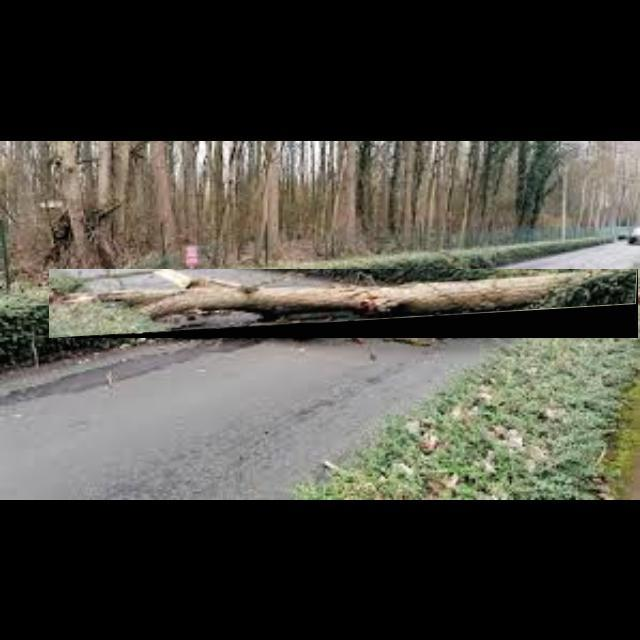fallen_tree: (49, 269, 639, 339)
